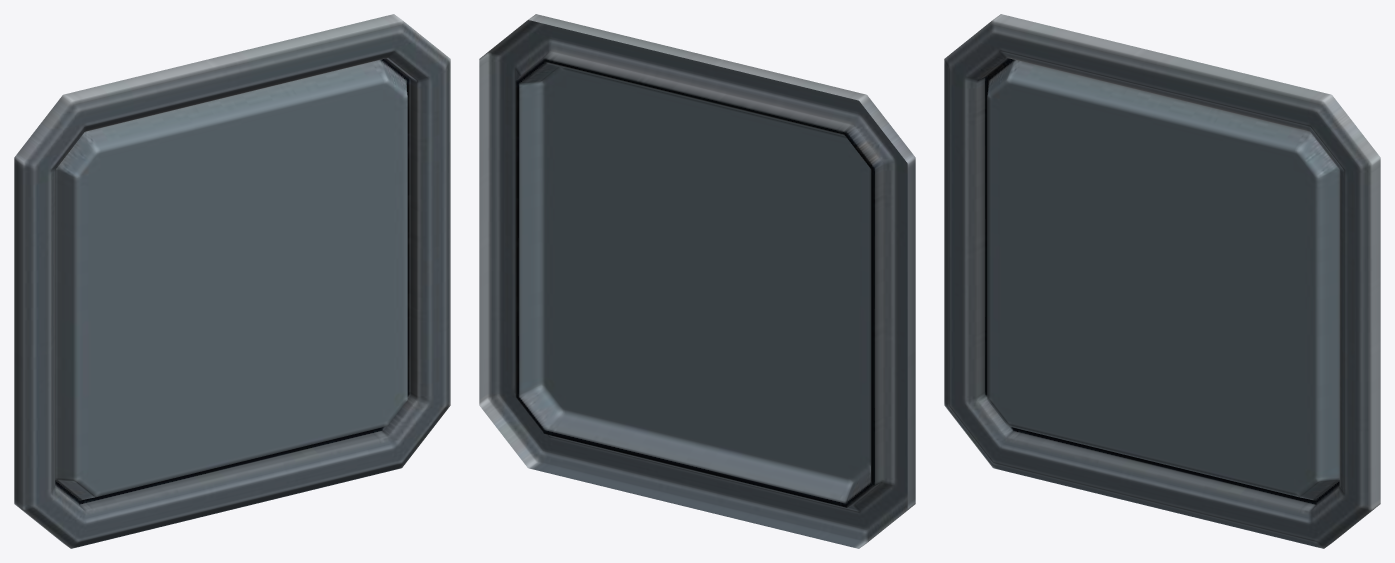
The model's file is newelebutton.fbx.
The picture shows the model from 3 angles, left to right: view 1: azimuth 30°, elevation 25°; view 2: azimuth 150°, elevation 25°; view 3: azimuth 330°, elevation 25°; orthographic projection.
Visible parts, largest first — view 1: buttons_low; view 2: buttons_low; view 3: buttons_low.
Boxes of the visible parts, box(x1,y1,x2,y2) form: buttons_low: box(14, 14, 450, 548); buttons_low: box(479, 14, 915, 548); buttons_low: box(944, 14, 1380, 548).
Size of the model in its own units: 400 by 400 by 21.84.
Materials: 1 (1 with a texture image).
